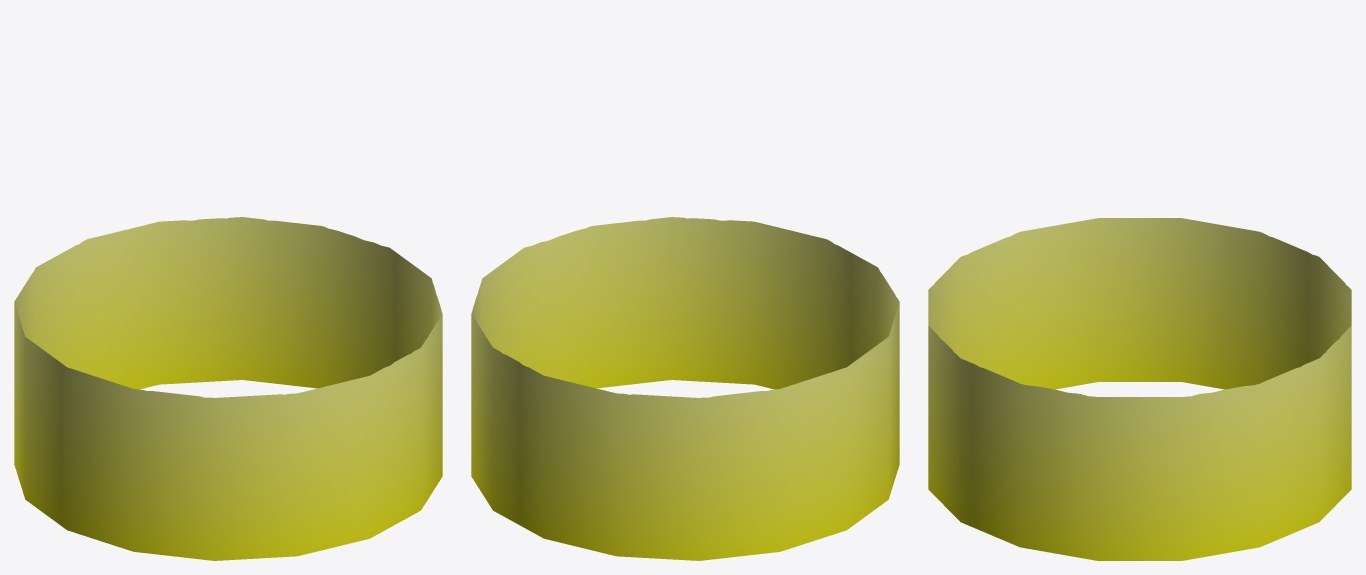
The model's file is CylinderSpawn.fbx.
3 renders of one model, left to right at view 1: azimuth 30°, elevation 25°; view 2: azimuth 150°, elevation 25°; view 3: azimuth 270°, elevation 25°, orthographic.
Visible parts, largest first — view 1: Spawn_LOD0; view 2: Spawn_LOD0; view 3: Spawn_LOD0.
Part boxes in pixels (bbox=[...]): Spawn_LOD0: bbox=[14, 217, 442, 560]; Spawn_LOD0: bbox=[471, 217, 899, 560]; Spawn_LOD0: bbox=[928, 218, 1351, 560].
Size of what is drawn, in the model's own units: 182 by 175 by 182.
